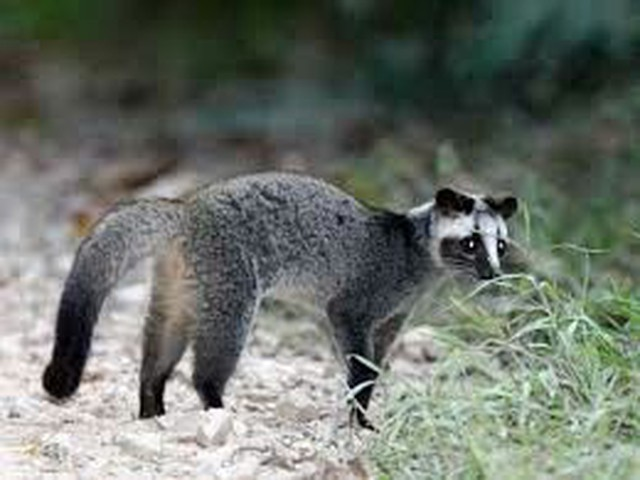civet: (41, 167, 521, 435)
